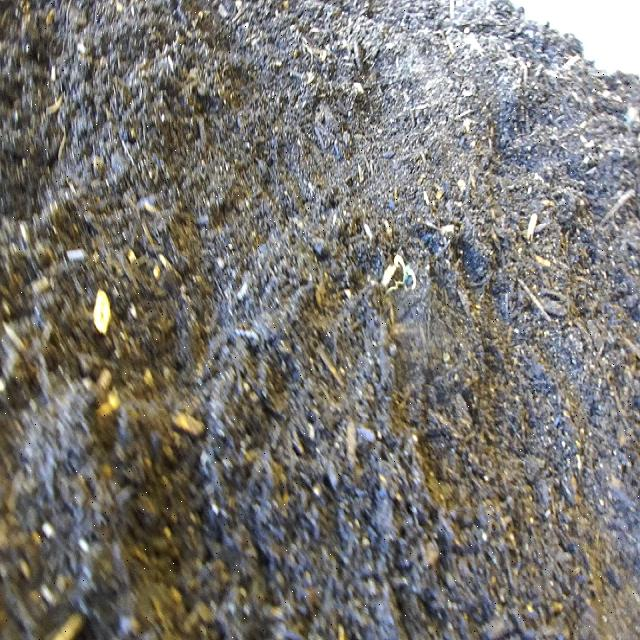Unhealthy: (381, 248, 423, 302)
